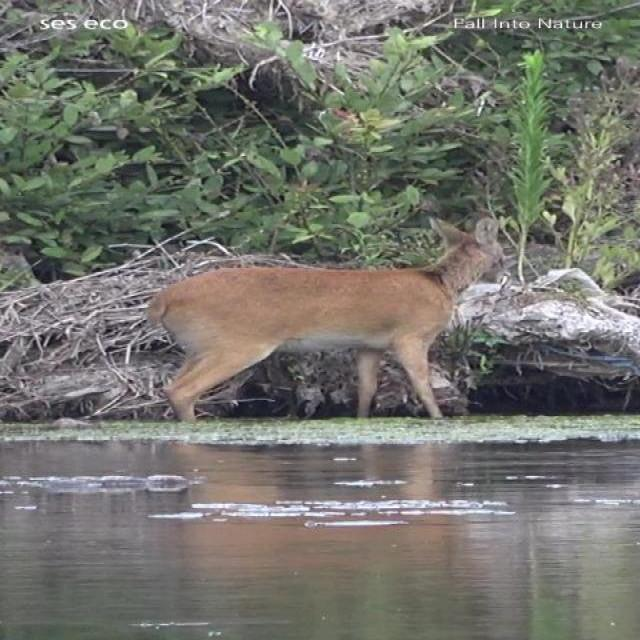deer: (145, 215, 514, 422)
